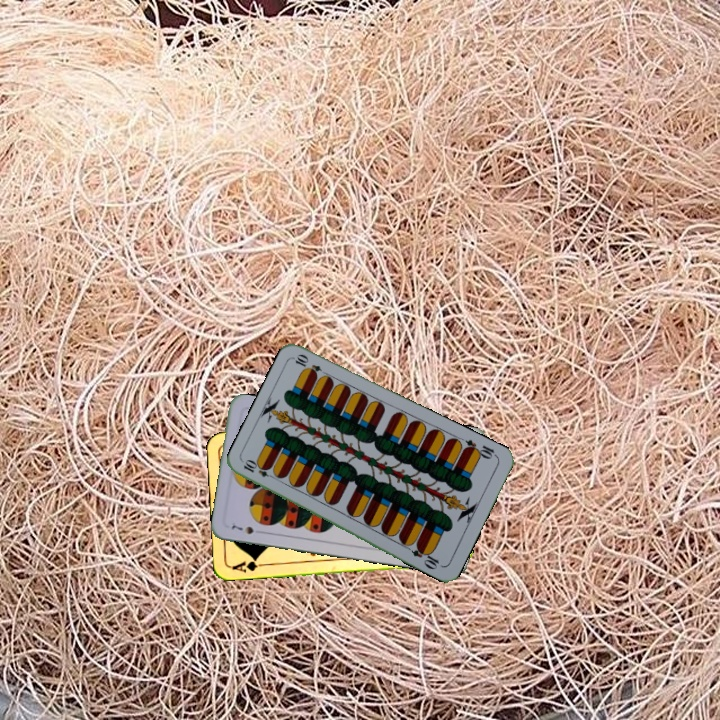E10: (460, 435, 500, 462), (239, 457, 279, 482)
GA: (228, 554, 269, 575)
S7: (227, 521, 266, 537)
